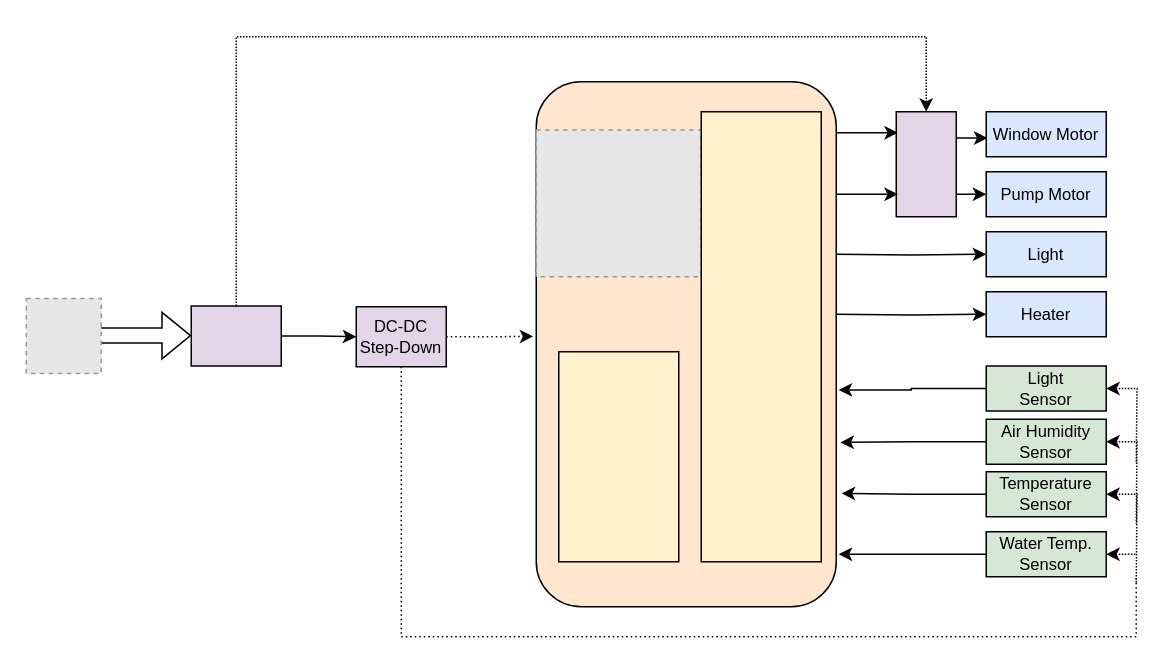
Some shapes in this 1176 by 665 pixel diagram are drawn without their labels. Grey dashed boxes stand in for pictures. Each missing label, with the centre of its shape:
AC-DC converter: (x=235, y=335)
ARM Cortex-A72: (x=618, y=456)
GPIO: (x=760, y=336)
H bridge: (x=925, y=163)
